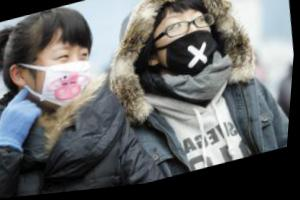OK: (26, 38, 101, 115)
WRONG: (142, 4, 223, 86)
